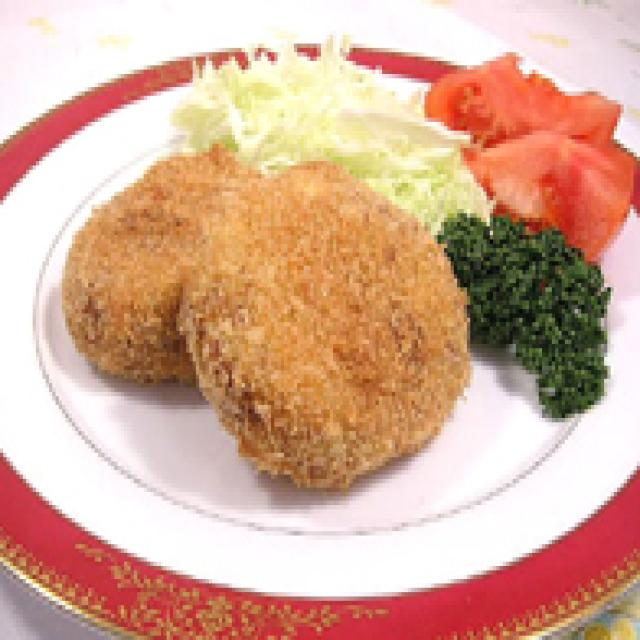炸货点心: (56, 118, 480, 496)
